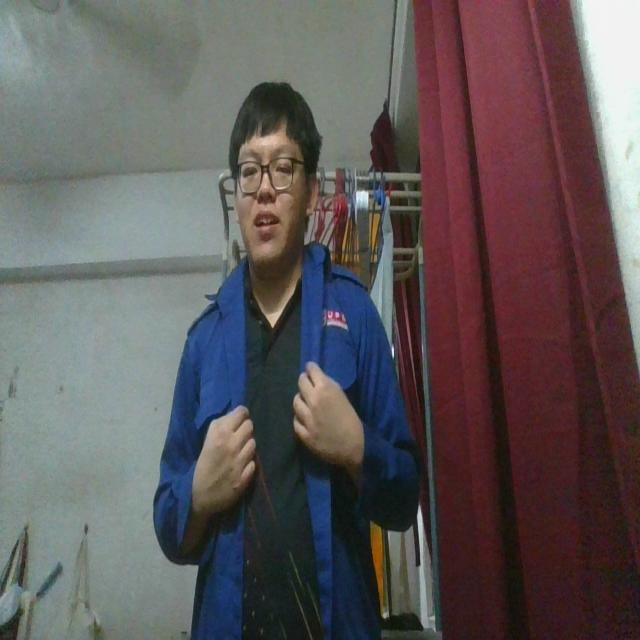person_with_labcoat: (154, 83, 418, 639)
